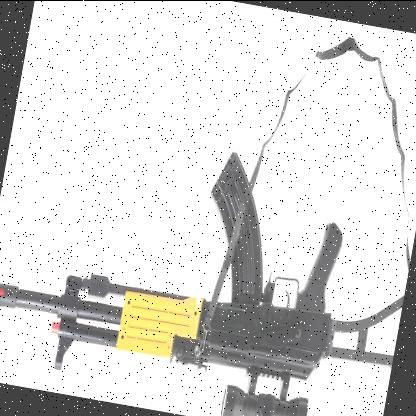rifle: (0, 110, 416, 416)
